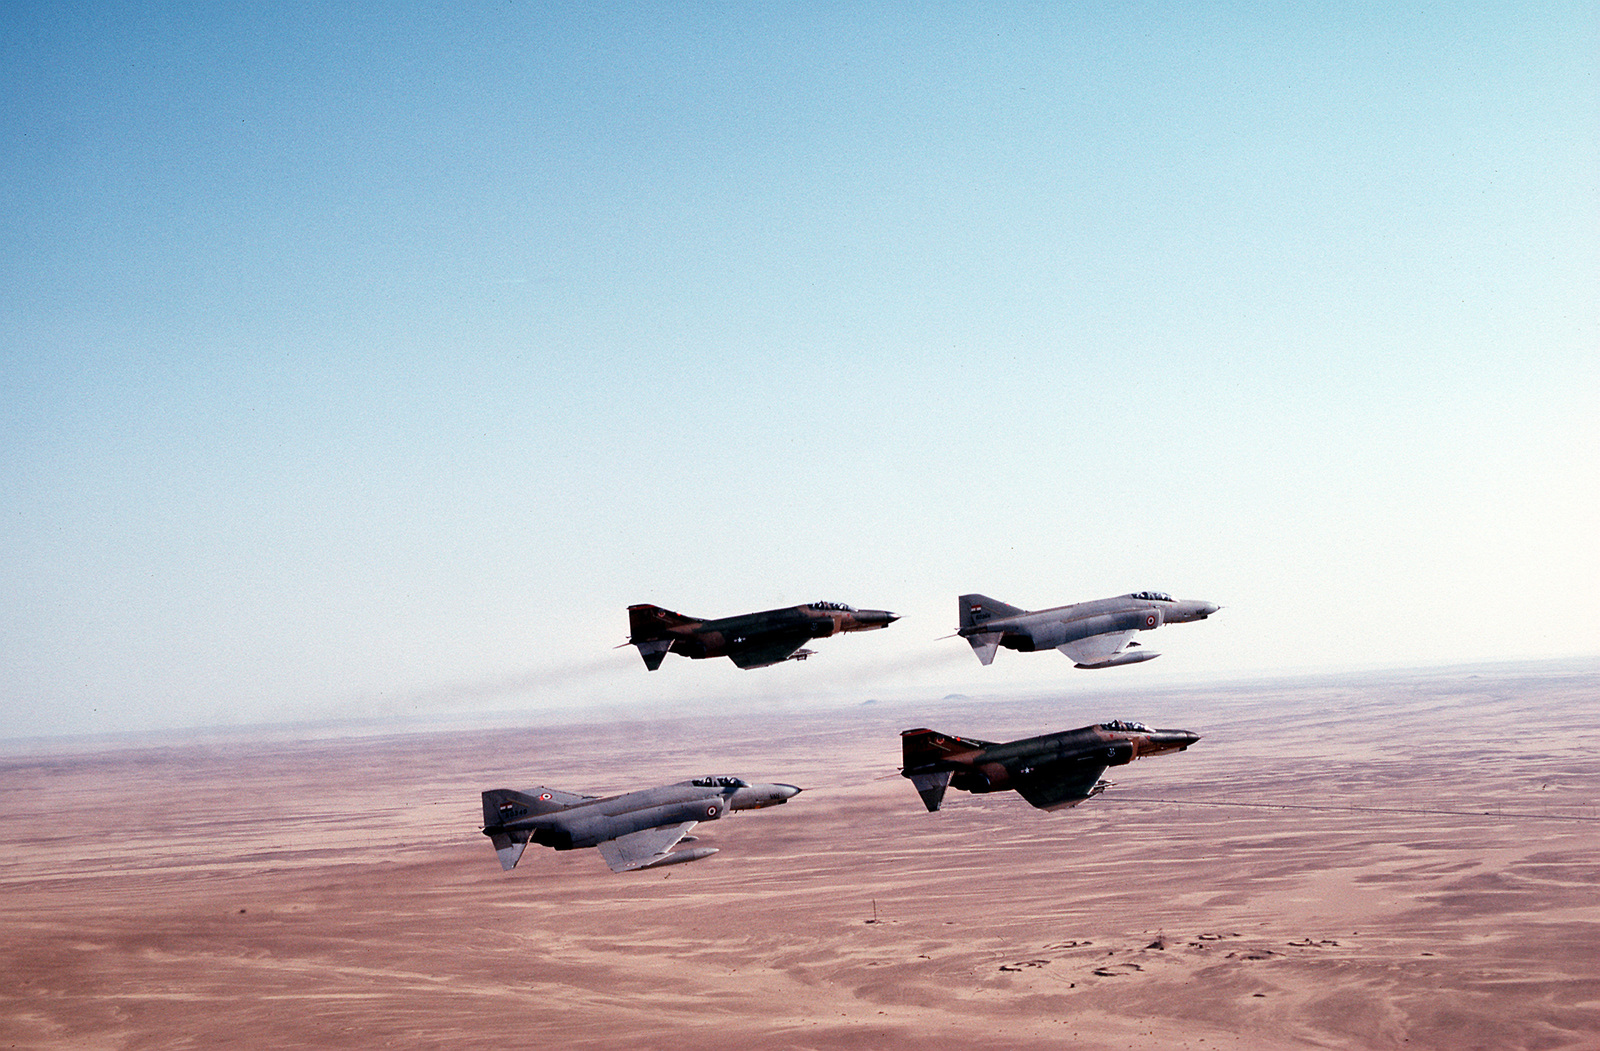F4: (477, 775, 815, 875), (873, 720, 1207, 813), (933, 590, 1230, 670), (612, 599, 911, 672)
